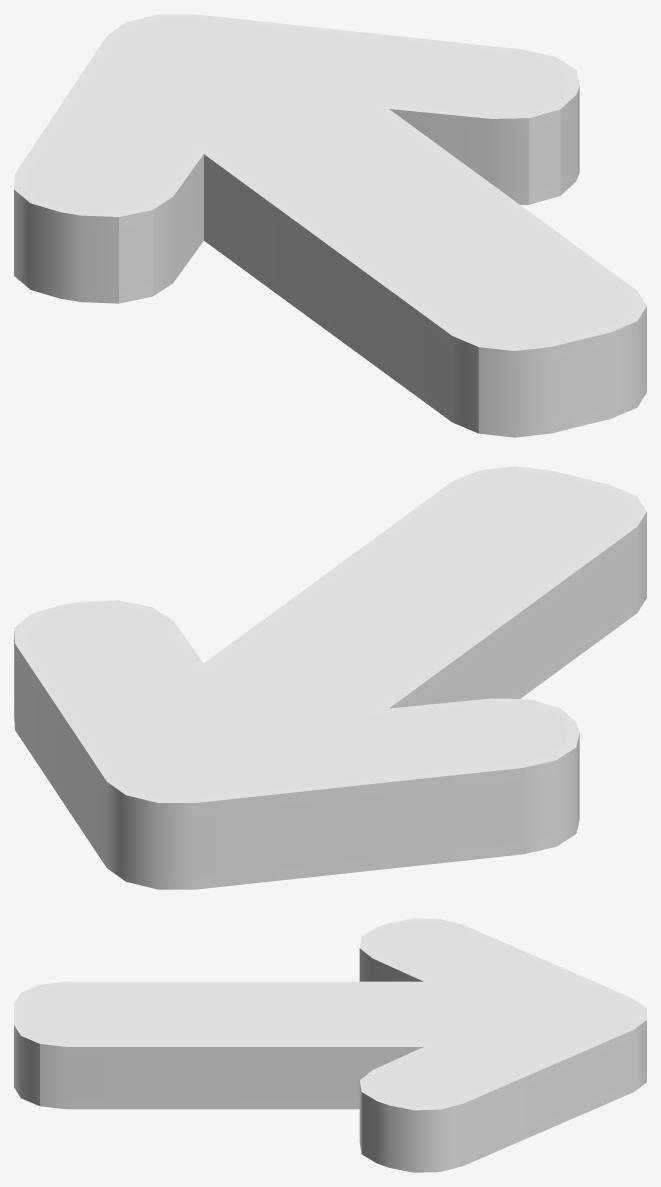
3 views of the same model, one above another, from view 1: azimuth 30°, elevation 25°; view 2: azimuth 150°, elevation 25°; view 3: azimuth 270°, elevation 25° (orthographic). The views are drawn at different scales.
Parts seen in each view (by area): view 1: TEMPORARY_IMPORT_NAMESPACE___:pCube1_0S; view 2: TEMPORARY_IMPORT_NAMESPACE___:pCube1_0S; view 3: TEMPORARY_IMPORT_NAMESPACE___:pCube1_0S.
Part boxes in pixels (x1,y1,x2,y2): TEMPORARY_IMPORT_NAMESPACE___:pCube1_0S: [14, 14, 646, 437]; TEMPORARY_IMPORT_NAMESPACE___:pCube1_0S: [14, 466, 646, 889]; TEMPORARY_IMPORT_NAMESPACE___:pCube1_0S: [14, 918, 646, 1172].
Bounding box in the file's own units: 0.00447 × 0.000677 × 0.00622.
